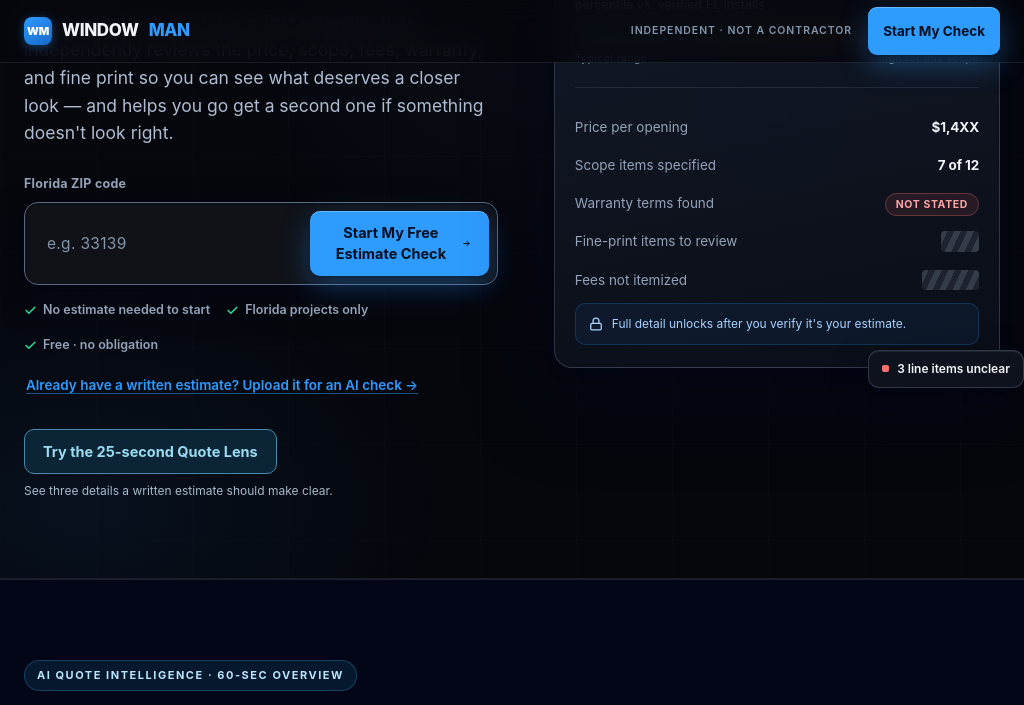
CampaignNQ3 NoQuoteLanding › starts has_quote at location, skips project questions, and preserves hero attribution
This screenshot has width=1024, height=705.
Later steps or results of the test are not shown.
(page scrolled)
Click the button with test id "nq3-escape-hatch". click: (222,385)
box: [24,361,420,409]
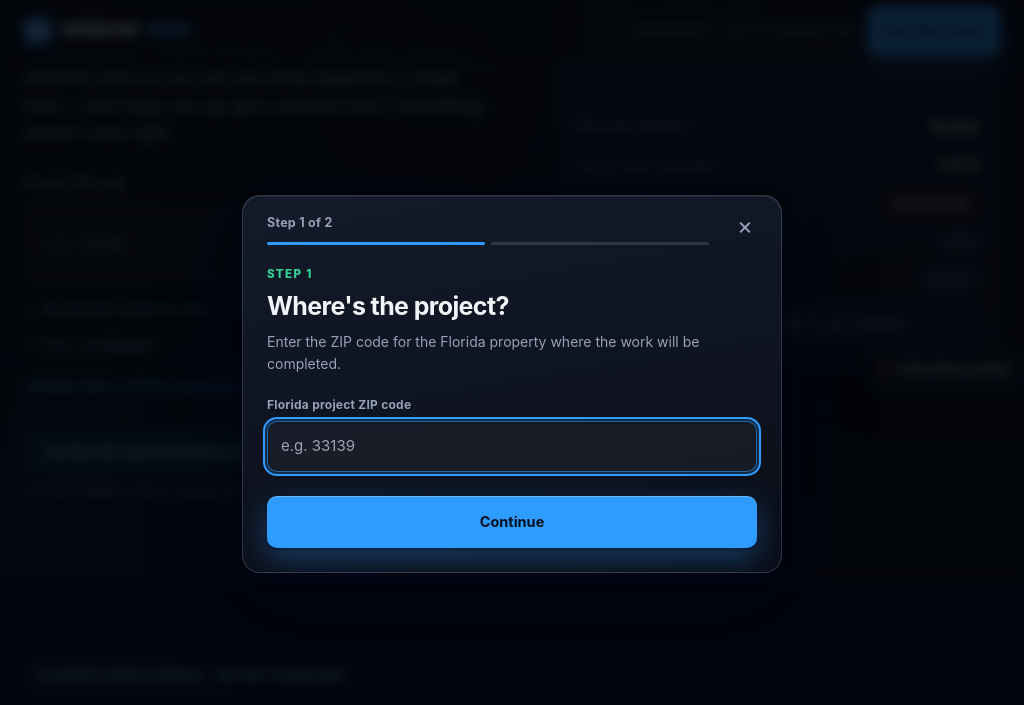
Type "34997" into the field labelled "Florida project ZIP code". click: (512,447)
box: [267,421,757,472]
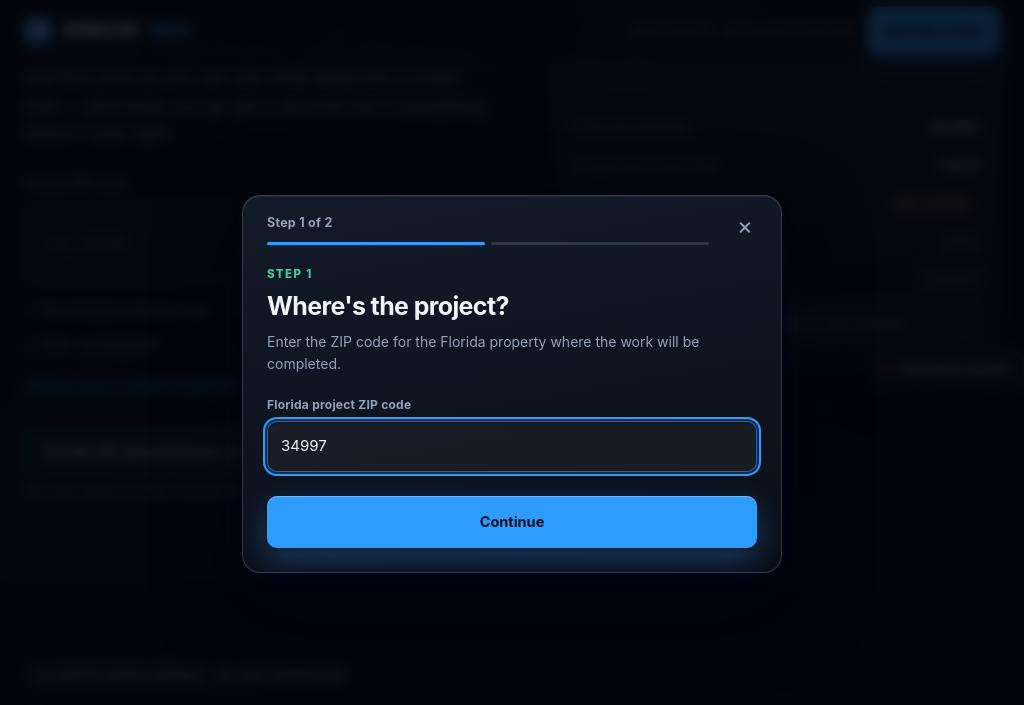
Click the button "Continue". click: (512,522)
box: [267,496,757,548]
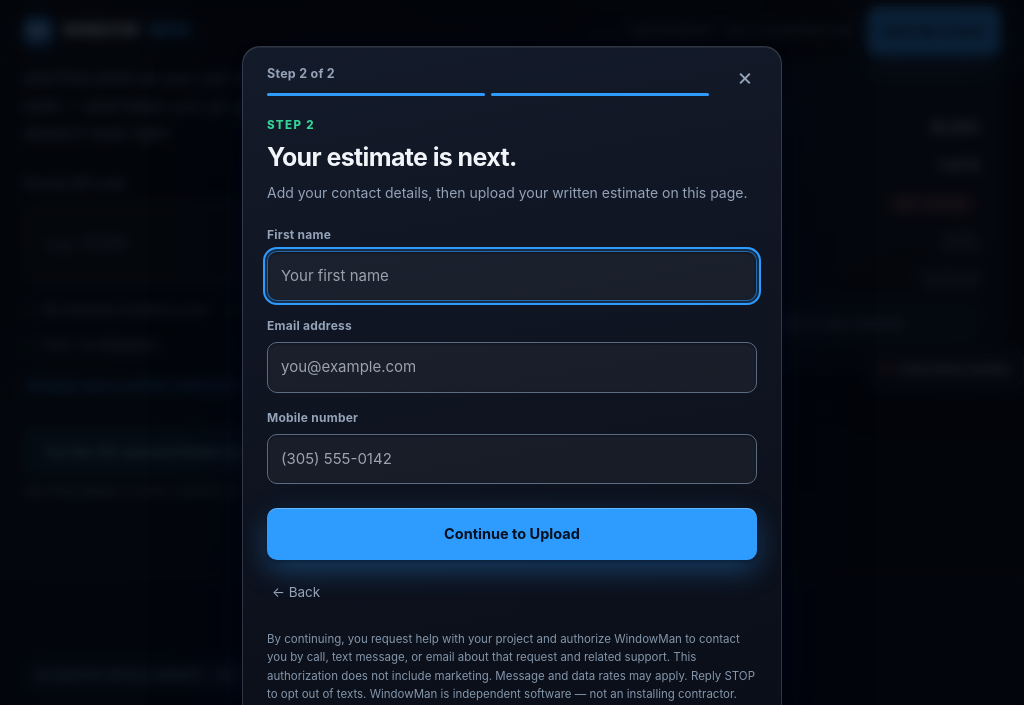
Expected: the heading "Your estimate is next." is shown, [267,142,517,172]
Expected: the text "Add your contact details, then upload your written estimate on this page." is shown, [267,182,757,204]
Expected: the button with test id "nq3-intake-submit" reads "Continue to Upload", [267,508,757,560]
